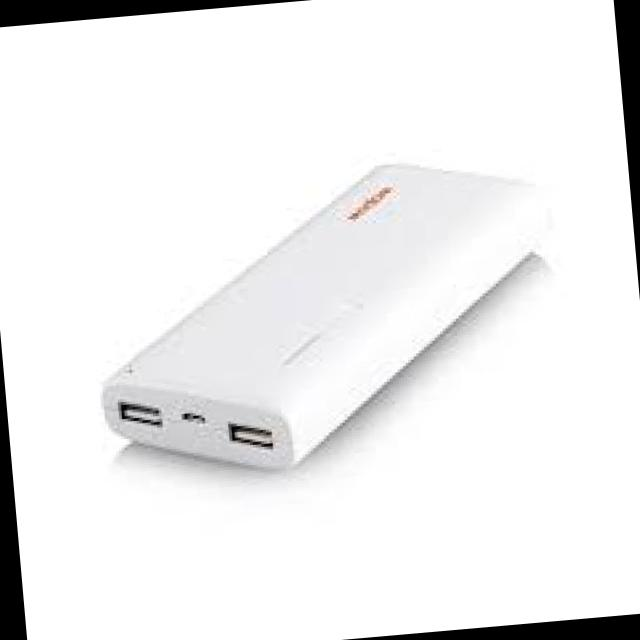portable-charger: (79, 148, 574, 490)
